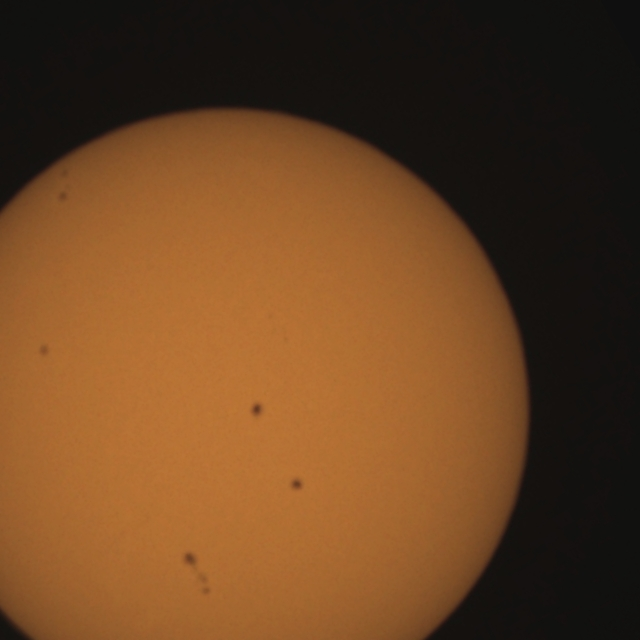sunspot: (181, 548, 211, 598), (180, 550, 200, 570), (248, 400, 265, 420), (36, 342, 52, 360), (288, 476, 304, 493), (56, 187, 70, 206)
